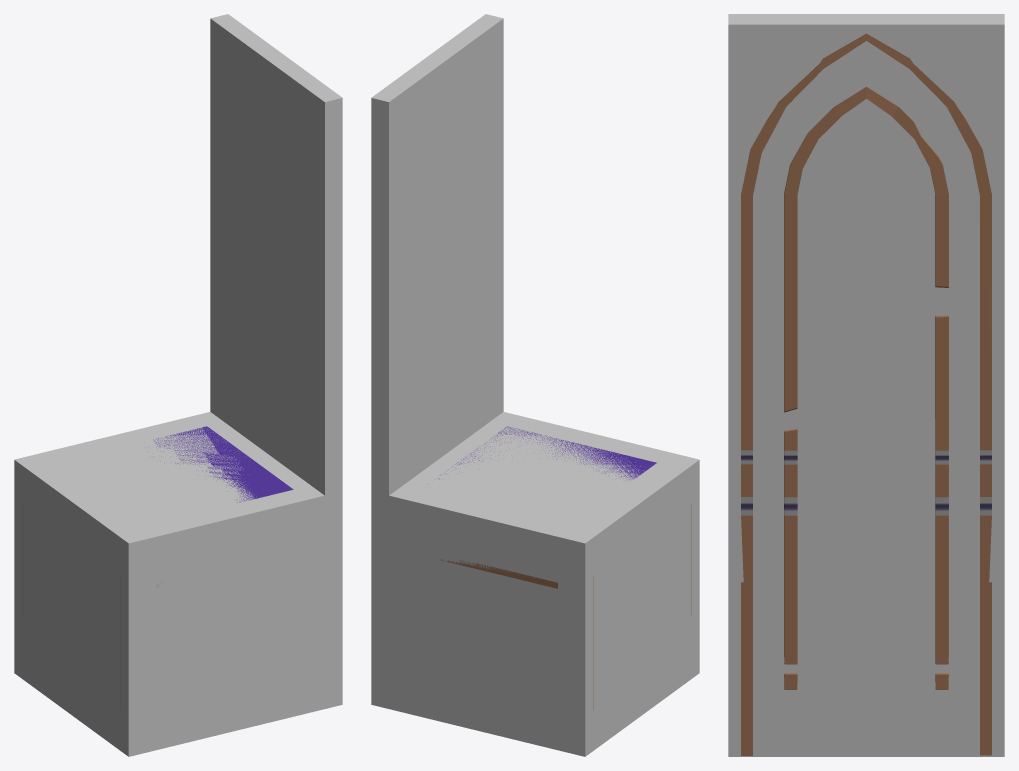
The model's file is SM_Prop_Chair_02.fbx.
3 renders of one model, left to right at view 1: azimuth 30°, elevation 25°; view 2: azimuth 150°, elevation 25°; view 3: azimuth 270°, elevation 25°, orthographic. The views are drawn at different scales.
Visible parts, largest first — view 1: SM_Prop_Chair_02_ConvexHulls, SM_Prop_Chair_02; view 2: SM_Prop_Chair_02_ConvexHulls, SM_Prop_Chair_02; view 3: SM_Prop_Chair_02_ConvexHulls, SM_Prop_Chair_02.
Part boxes in pixels (left/top/right/bottom): SM_Prop_Chair_02_ConvexHulls: left=14, top=14, right=342, bottom=756; SM_Prop_Chair_02: left=22, top=426, right=293, bottom=710; SM_Prop_Chair_02_ConvexHulls: left=371, top=14, right=699, bottom=756; SM_Prop_Chair_02: left=436, top=426, right=691, bottom=710; SM_Prop_Chair_02_ConvexHulls: left=728, top=14, right=1004, bottom=756; SM_Prop_Chair_02: left=741, top=33, right=991, bottom=755.
Bounding box in the file's own units: 53.51 × 49.39 × 144.
Materials: 2 (1 with a texture image).
